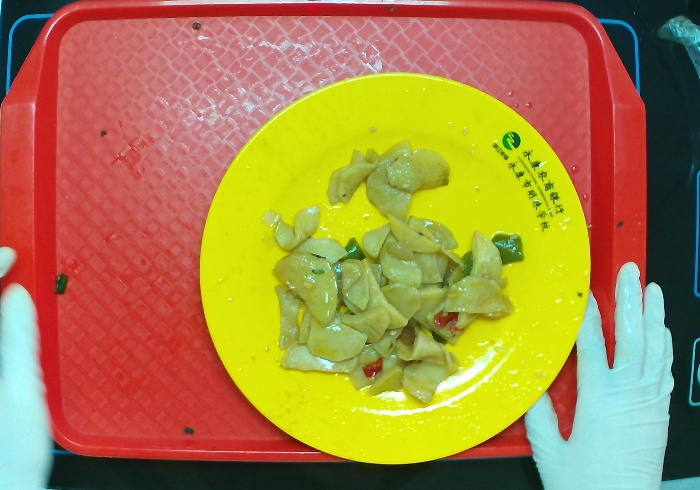YKMZ-Huang_Se_Mian_Pan: (183, 61, 602, 476)
